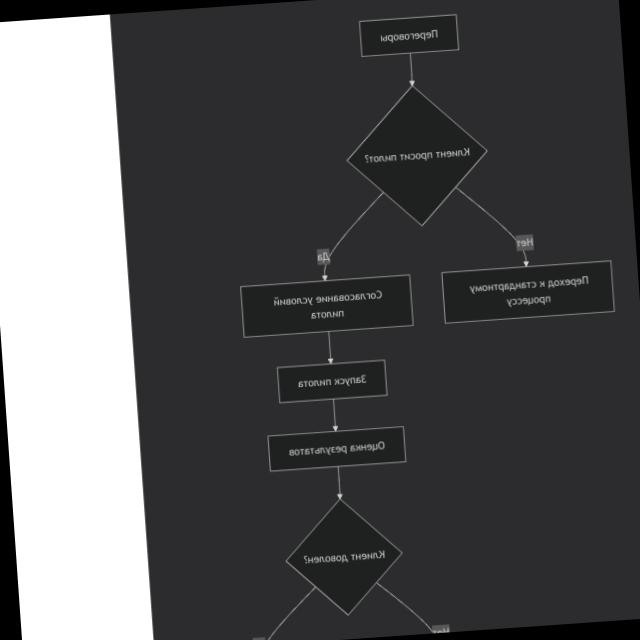arrow: (315, 190, 391, 280), (455, 181, 530, 271), (333, 466, 345, 500), (324, 331, 336, 364), (406, 52, 416, 87), (329, 398, 339, 431)
diamond: (347, 87, 485, 224), (286, 500, 400, 613)
rectangle: (240, 274, 412, 337), (442, 261, 613, 323), (267, 427, 404, 471), (277, 360, 386, 403), (359, 14, 457, 56)
text_region: (515, 236, 533, 248), (316, 250, 330, 264)
